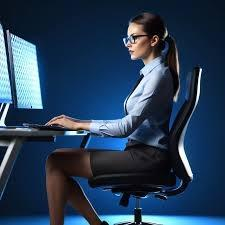good-pose: (0, 0, 225, 225)
